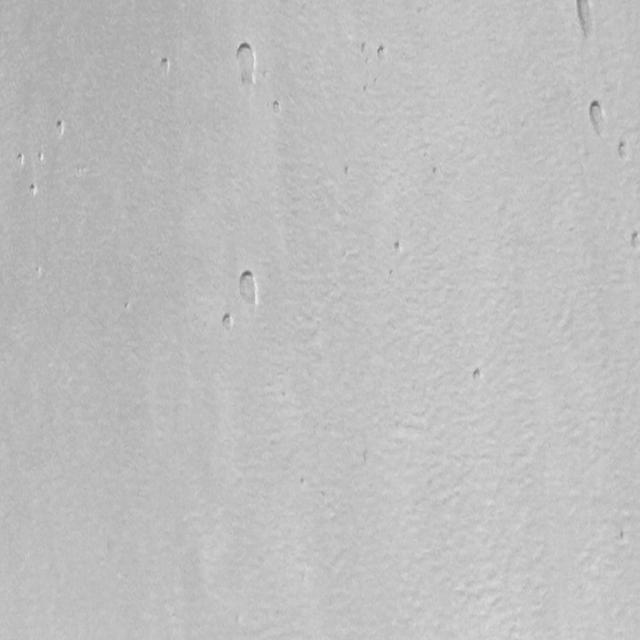pin holes: (230, 37, 262, 92), (235, 269, 266, 313), (570, 0, 601, 41), (583, 98, 610, 141), (468, 363, 488, 388), (615, 138, 633, 164), (217, 310, 236, 334), (159, 54, 173, 78), (54, 118, 68, 139), (392, 237, 407, 255), (270, 98, 284, 116), (359, 40, 372, 59), (342, 161, 354, 181), (376, 44, 389, 62), (16, 151, 28, 170), (430, 163, 442, 182), (628, 230, 639, 248), (27, 184, 39, 199), (36, 150, 46, 164)
